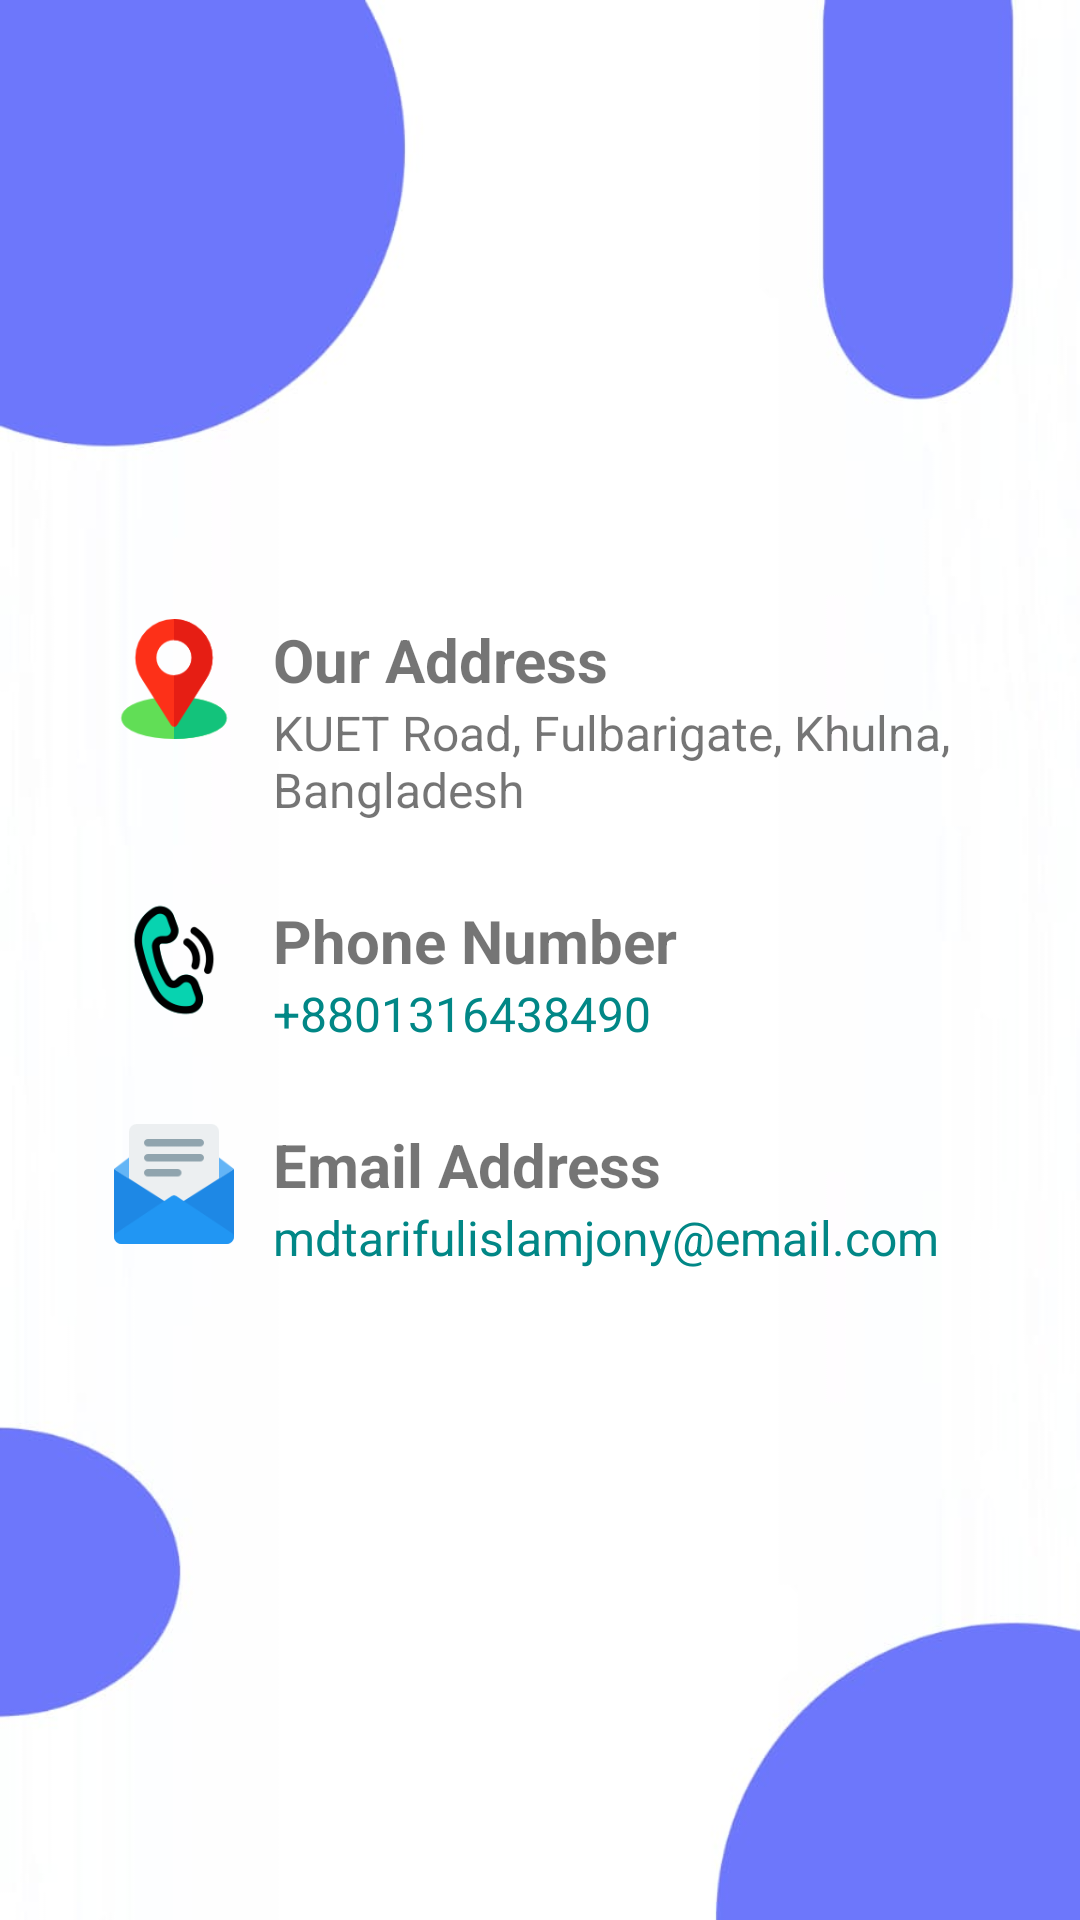

Where to tap for icons on this 1080×1920 app screen, as (x,y):
Location Icon: (174,679)
